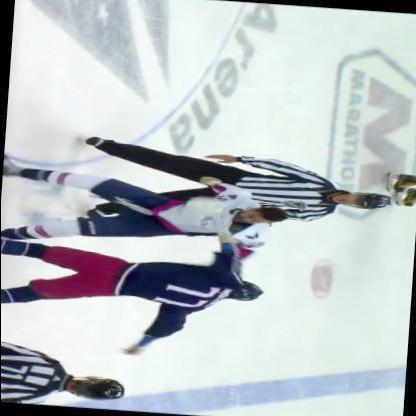voilence: (1, 164, 292, 364)
